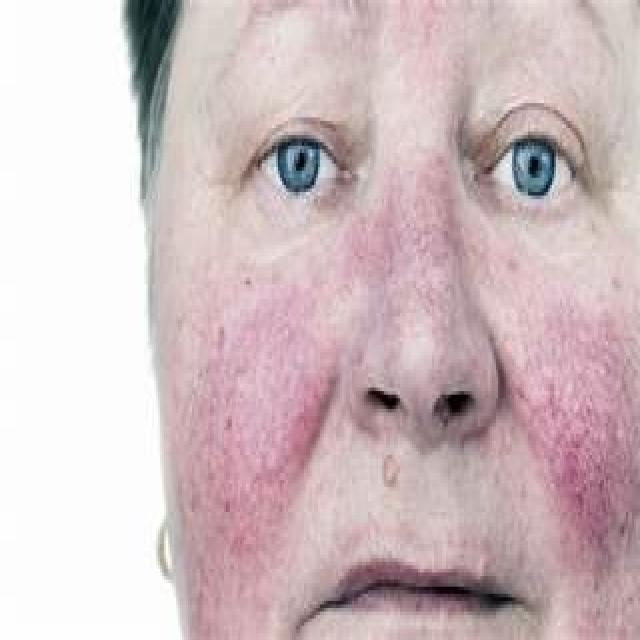Rosacea: (208, 317, 321, 517), (534, 328, 628, 560)
